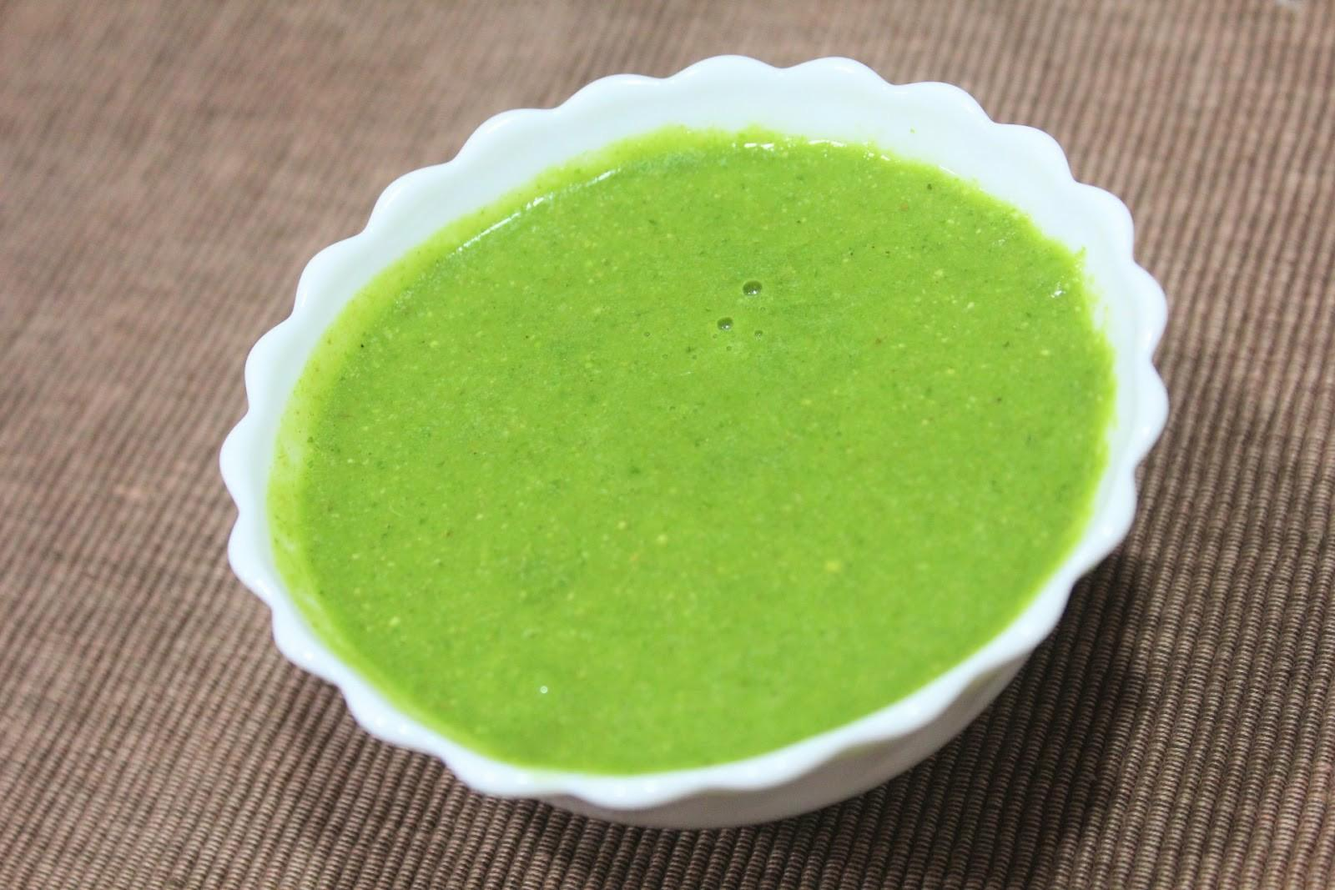GreenChutney: (294, 143, 1107, 774)
